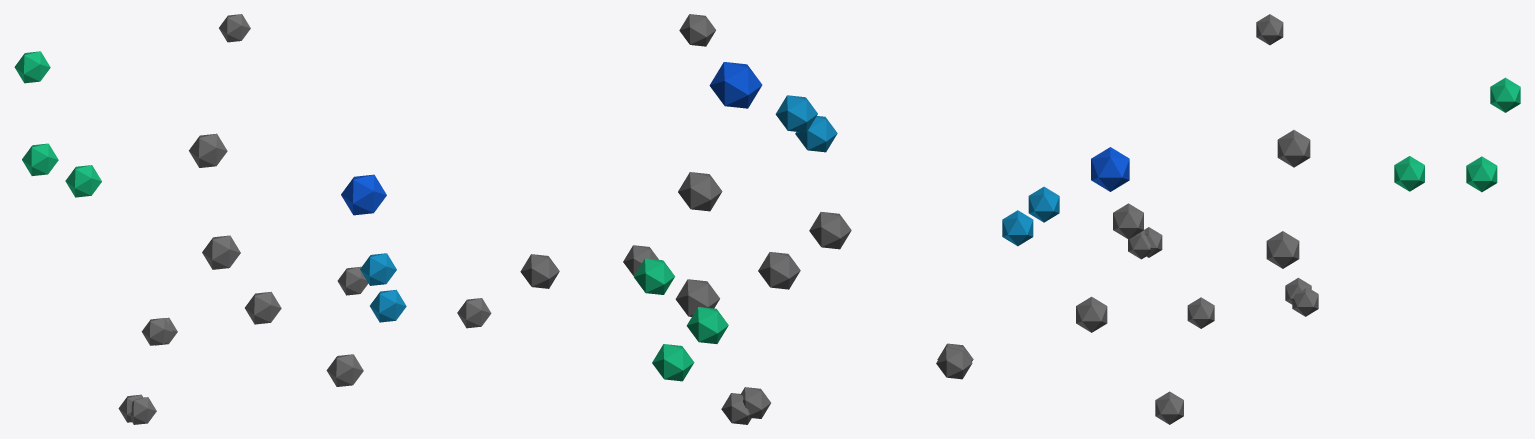
3 renders of one model, left to right at view 1: azimuth 30°, elevation 25°; view 2: azimuth 150°, elevation 25°; view 3: azimuth 270°, elevation 25°, orthographic. The views are drawn at different scales.
Parts seen in each view (by area): view 1: 01_06_02; view 2: 01_06_02; view 3: 01_06_02.
Part boxes in pixels (box(x1,y1,x2,y2)): 01_06_02: box(14, 14, 491, 424); 01_06_02: box(520, 14, 973, 424); 01_06_02: box(1002, 14, 1520, 424).
Size of the model in its own units: 0.4819 by 0.403 by 0.5878.
